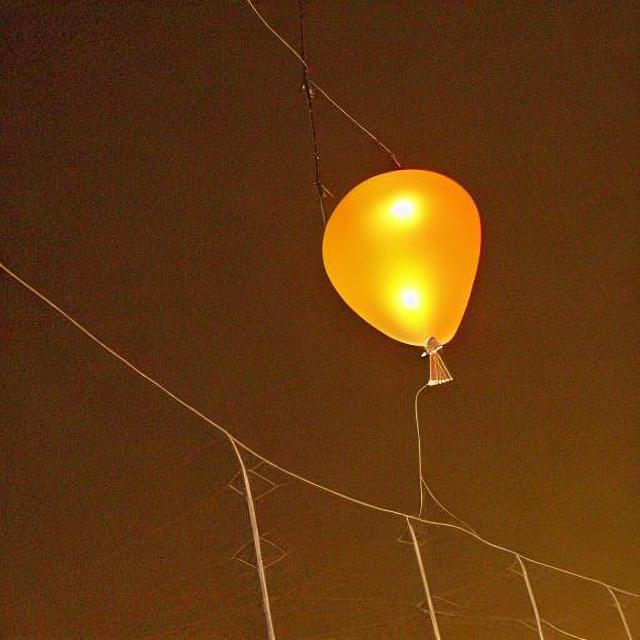balloon: (315, 160, 484, 348)
